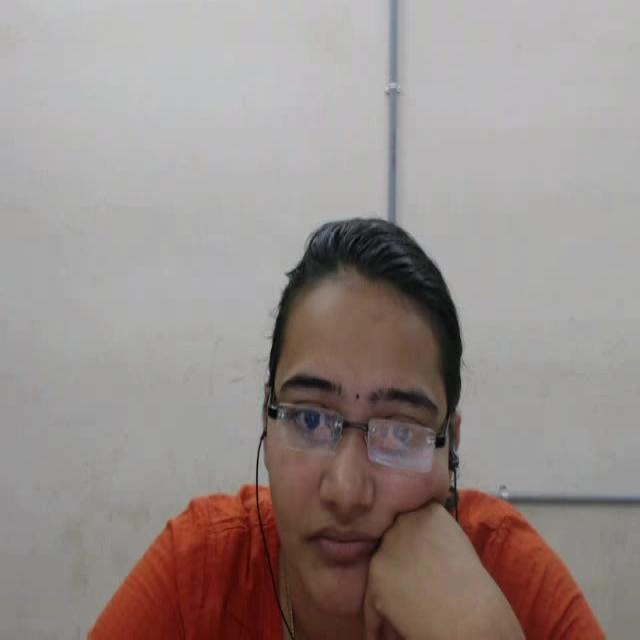Bored: (239, 200, 490, 630)
